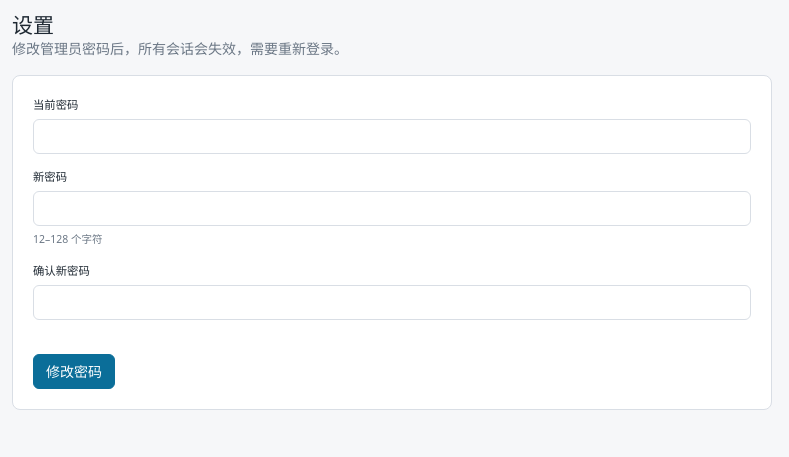
Test case: SettingsView › maps an invalid current password to a field error
Type "old-password-123" into the password field with id "current-password".
click(392, 137); type("old-password-123")  # box [33,119,751,154]
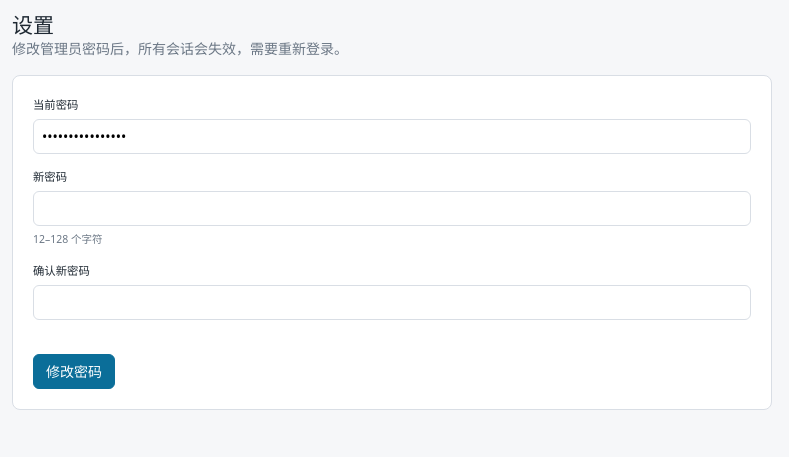
Type "new-password-123" into the password field with id "new-password".
click(392, 209); type("new-password-123")  # box [33,191,751,226]
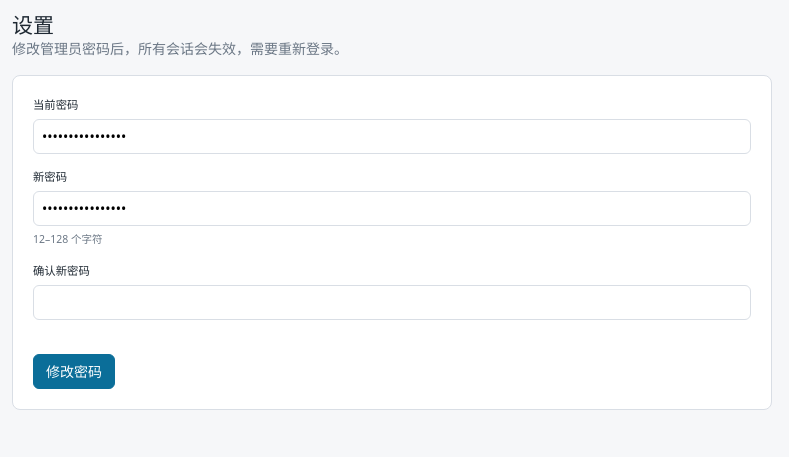
Type "new-password-123" into the password field with id "confirm-password".
click(392, 303); type("new-password-123")  # box [33,285,751,320]
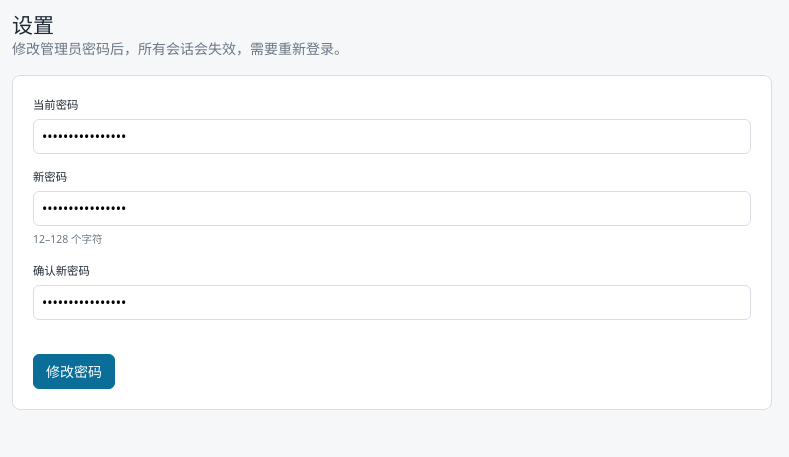
Submit the form
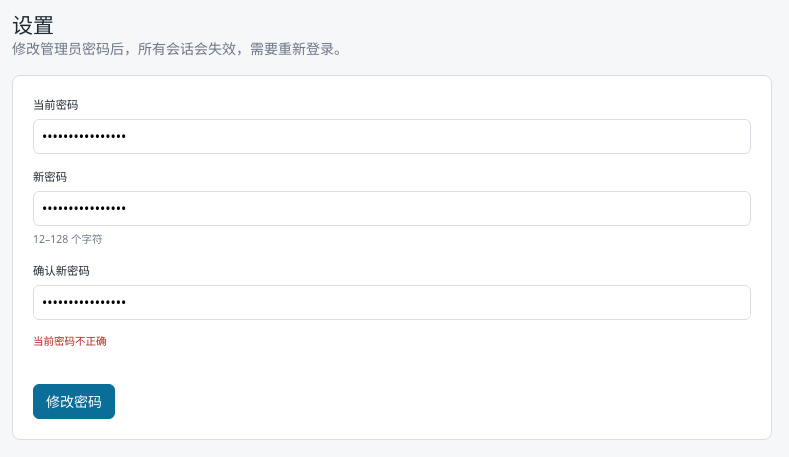
Result: the text "当前密码不正确" is shown at [33,334,106,348]
